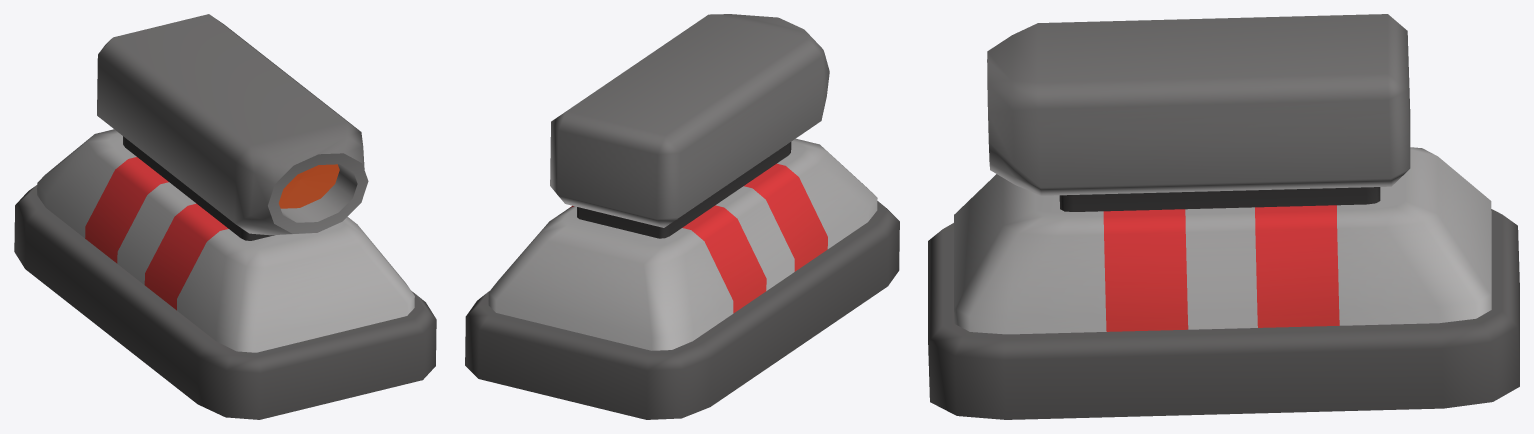
The model's file is Car_04_Engine.fbx.
3 views of the same model, side by side, from view 1: azimuth 30°, elevation 25°; view 2: azimuth 150°, elevation 25°; view 3: azimuth 270°, elevation 25° (orthographic). The views are drawn at different scales.
Visible parts, largest first — view 1: Car_04_Engine; view 2: Car_04_Engine; view 3: Car_04_Engine.
Boxes of the visible parts, x1=… form: Car_04_Engine: x1=14, y1=14, x2=436, y2=419; Car_04_Engine: x1=465, y1=14, x2=899, y2=419; Car_04_Engine: x1=928, y1=14, x2=1519, y2=419.
Size of the model in its own units: 38.5 by 68.33 by 39.2.
